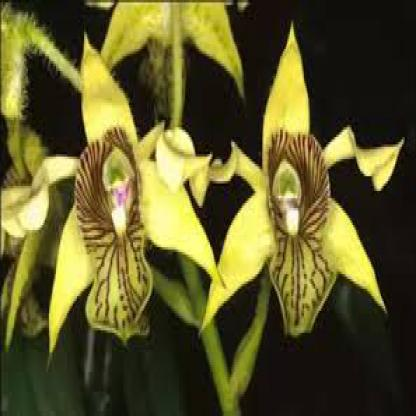ANGGREK: (54, 62, 395, 366)
